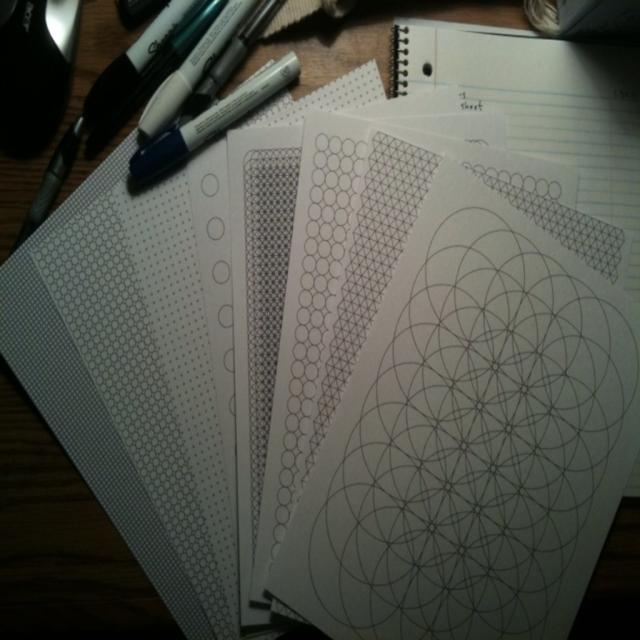pen: (86, 0, 307, 182), (15, 110, 84, 248)
